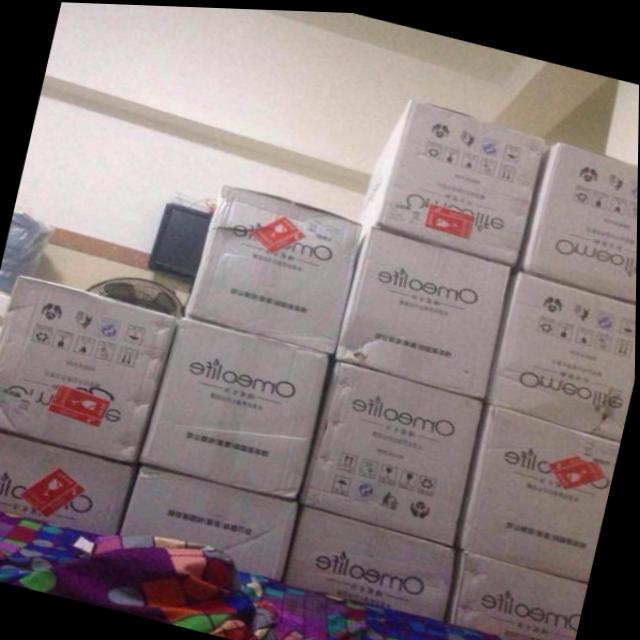box: (137, 315, 331, 501), (300, 356, 484, 546), (0, 276, 175, 461), (335, 225, 516, 398), (360, 96, 547, 263), (456, 399, 621, 580), (188, 182, 362, 350), (486, 267, 637, 440), (121, 461, 300, 576), (286, 500, 458, 615), (517, 137, 638, 297), (0, 431, 138, 534), (449, 547, 589, 640)
